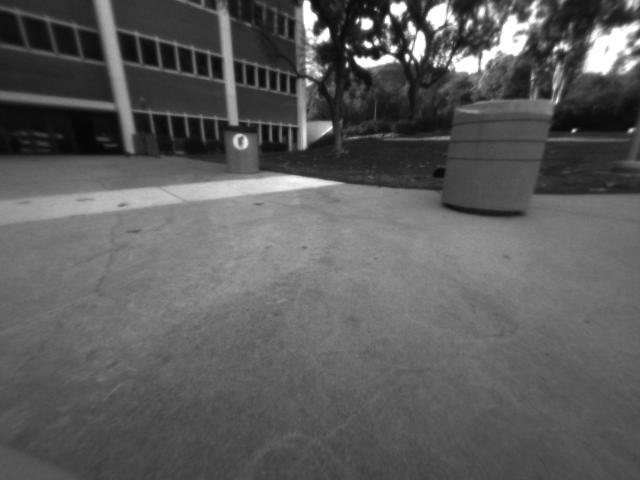trashcan: (435, 89, 563, 230), (214, 117, 270, 179)
